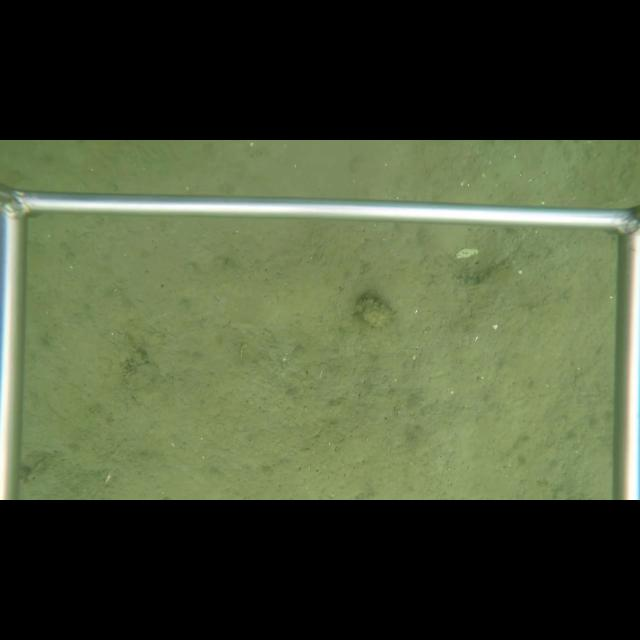Oyster-Closed: (352, 295, 396, 329)
